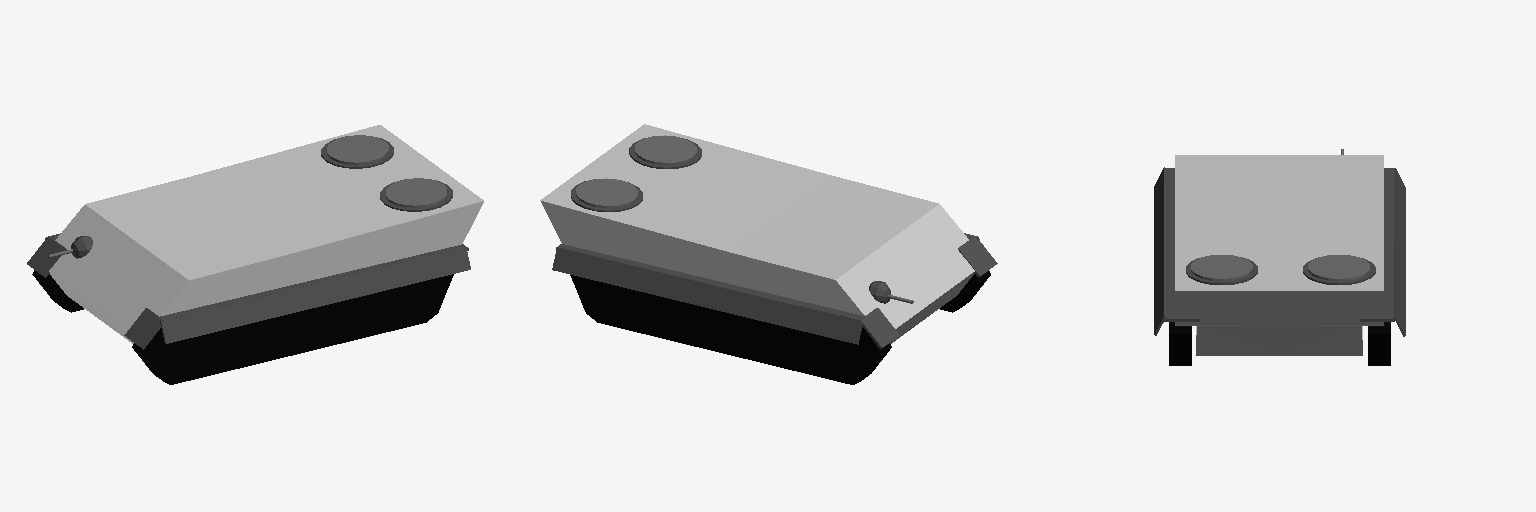
File: tankbody02.obj
3 views of the same model, side by side, from view 1: azimuth 30°, elevation 25°; view 2: azimuth 150°, elevation 25°; view 3: azimuth 270°, elevation 25° (orthographic).
Parts seen in each view (by area): view 1: Box001, Box009, Box011, Cylinder004, Cylinder003, Box002, Box004, Box007, Box006; view 2: Box001, Box006, Box010, Box008, Cylinder004, Cylinder003, Box007, Box004, Box009; view 3: Box001, Box011, Box010, Box008, Box002, Cylinder004, Cylinder003, Box006, Box009.
Boxes of the visible parts, x1=… form: Box001: x1=49, y1=125, x2=483, y2=343; Box009: x1=132, y1=274, x2=453, y2=384; Box011: x1=160, y1=247, x2=470, y2=343; Cylinder004: x1=327, y1=135, x2=388, y2=164; Cylinder003: x1=386, y1=178, x2=447, y2=207; Box002: x1=147, y1=244, x2=468, y2=319; Box004: x1=124, y1=308, x2=163, y2=349; Box007: x1=27, y1=236, x2=65, y2=277; Box006: x1=32, y1=270, x2=83, y2=312; Box001: x1=540, y1=124, x2=974, y2=343; Box006: x1=570, y1=275, x2=891, y2=384; Box010: x1=552, y1=247, x2=862, y2=344; Box008: x1=556, y1=244, x2=876, y2=320; Cylinder004: x1=576, y1=178, x2=637, y2=207; Cylinder003: x1=635, y1=135, x2=696, y2=164; Box007: x1=860, y1=308, x2=899, y2=349; Box004: x1=959, y1=236, x2=997, y2=277; Box009: x1=940, y1=271, x2=990, y2=312; Box001: x1=1175, y1=155, x2=1383, y2=355; Box011: x1=1154, y1=167, x2=1165, y2=335; Box010: x1=1394, y1=168, x2=1405, y2=336; Box008: x1=1360, y1=169, x2=1394, y2=321; Box002: x1=1164, y1=169, x2=1199, y2=321; Cylinder004: x1=1308, y1=255, x2=1369, y2=280; Cylinder003: x1=1191, y1=255, x2=1252, y2=280; Box006: x1=1368, y1=322, x2=1390, y2=365; Box009: x1=1169, y1=322, x2=1191, y2=365.
Bounding box in the file's own units: 69.21 × 20.42 × 42.78.